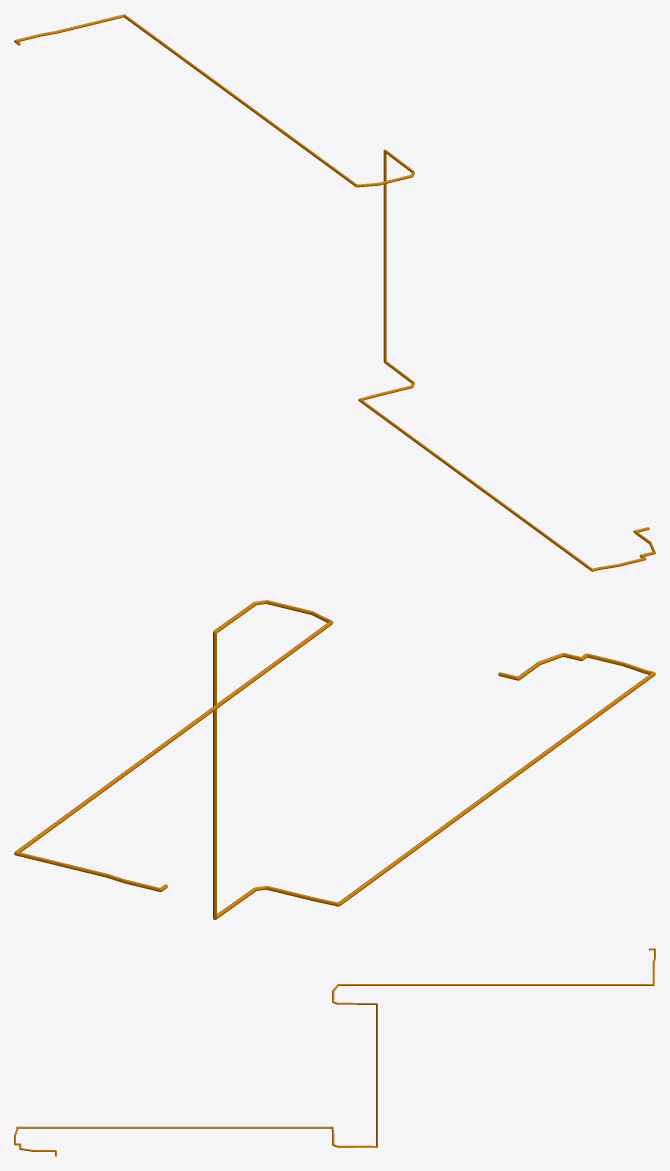
The picture shows the model from 3 angles, top to bottom: view 1: azimuth 30°, elevation 25°; view 2: azimuth 150°, elevation 25°; view 3: azimuth 270°, elevation 25°; orthographic projection. The views are drawn at different scales.
Size of the model in its own units: 1445 by 1520 by 6108.
